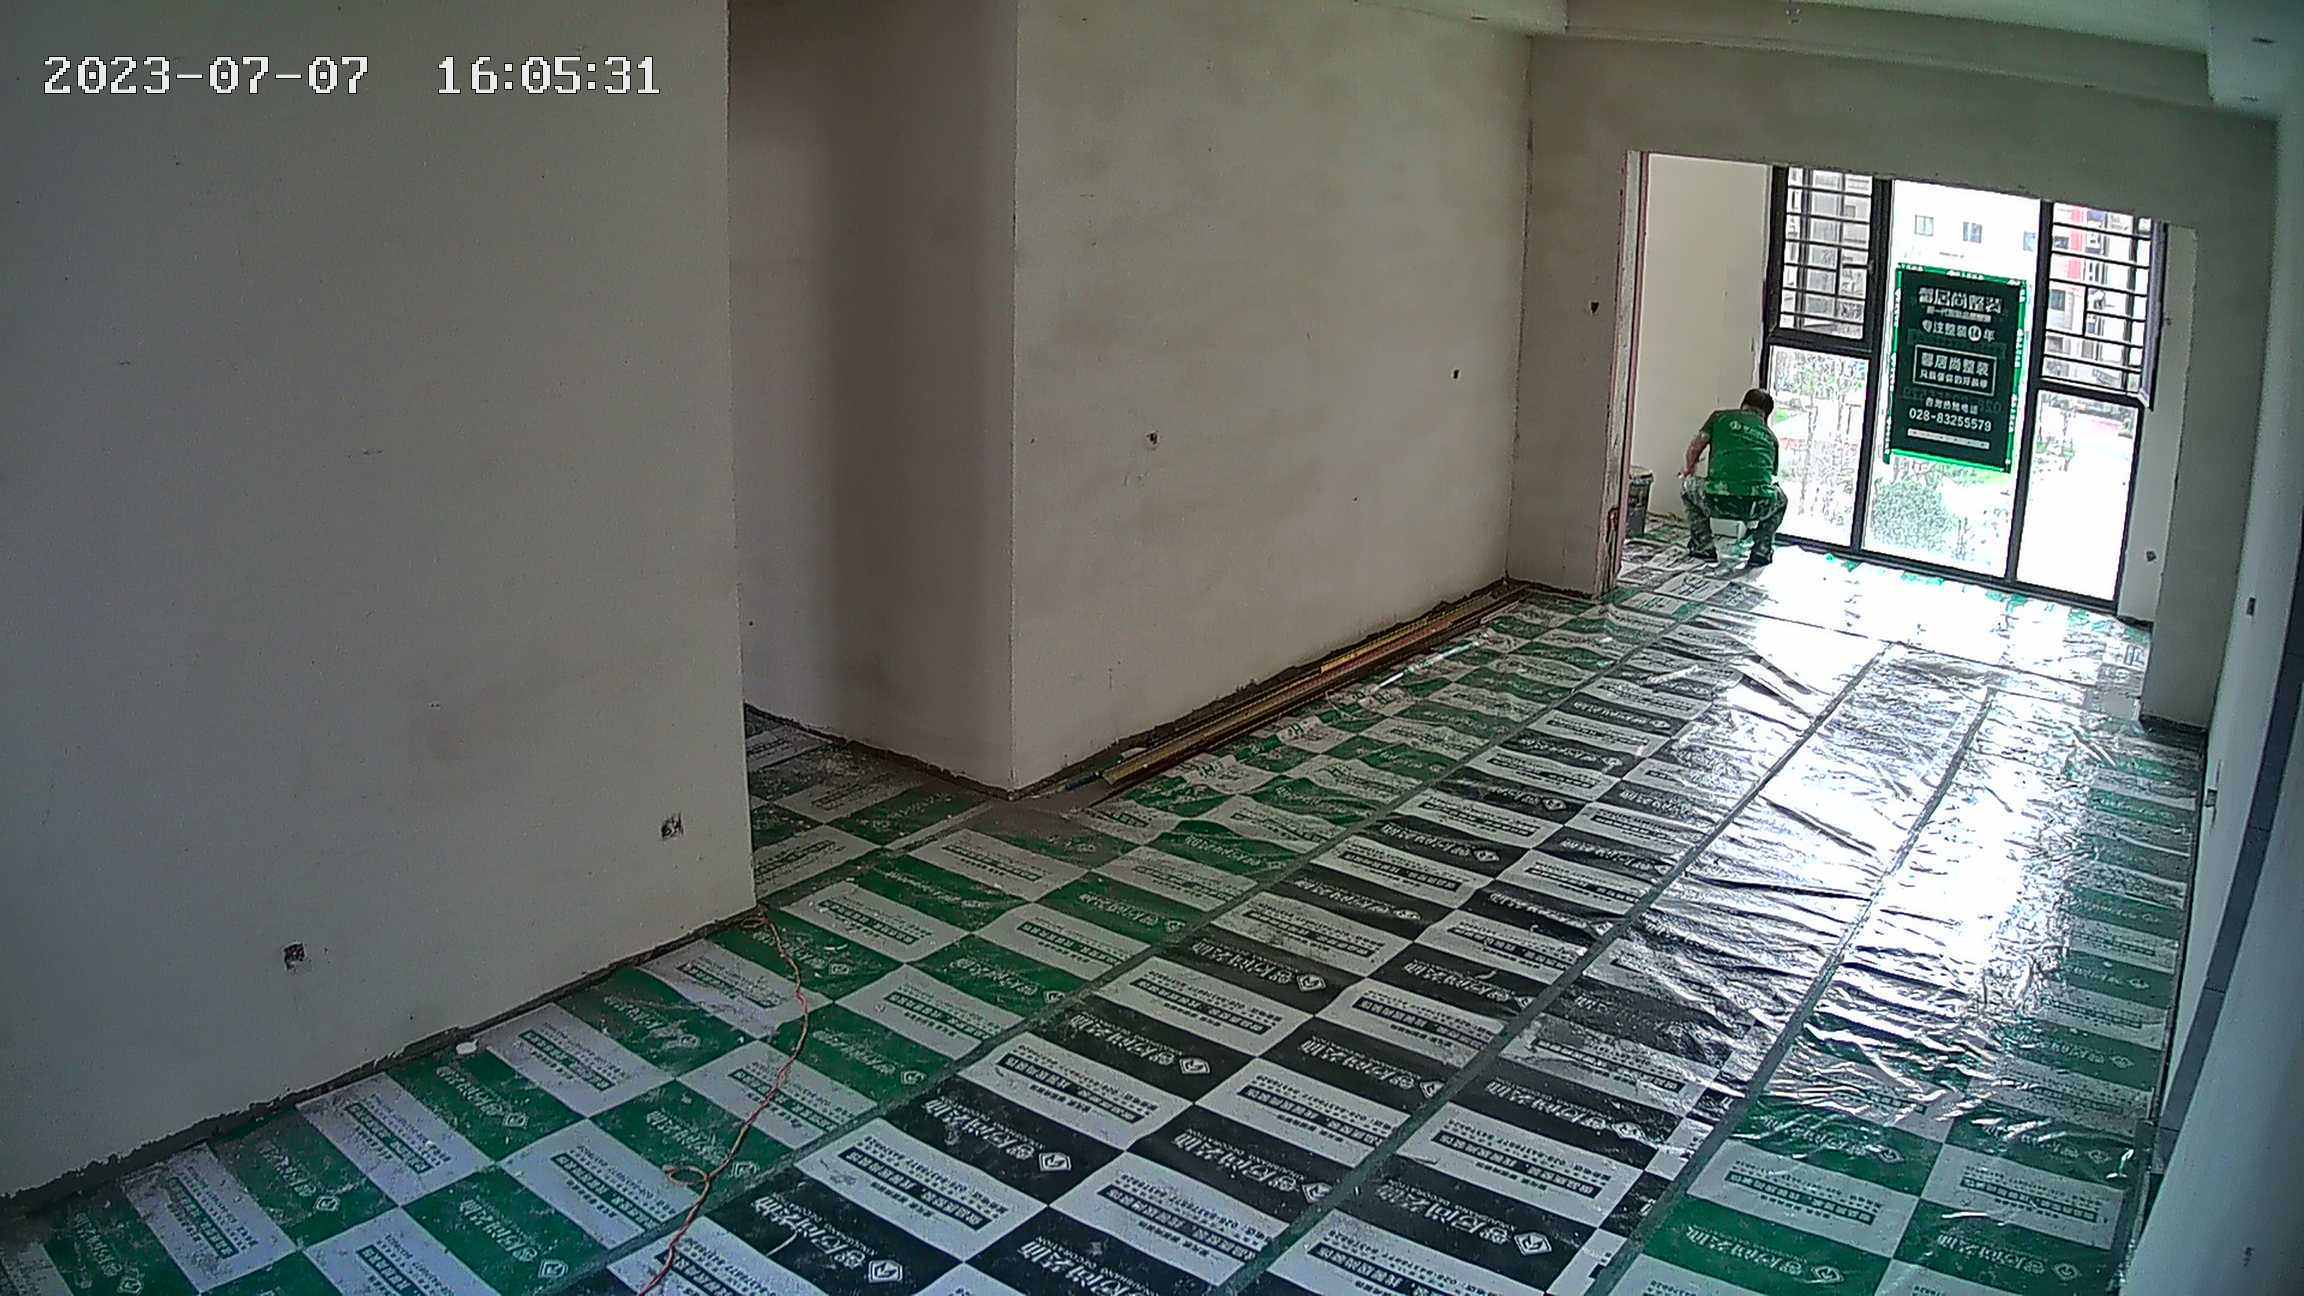people: (1669, 385, 1789, 571)
window: (1762, 156, 2135, 610)
